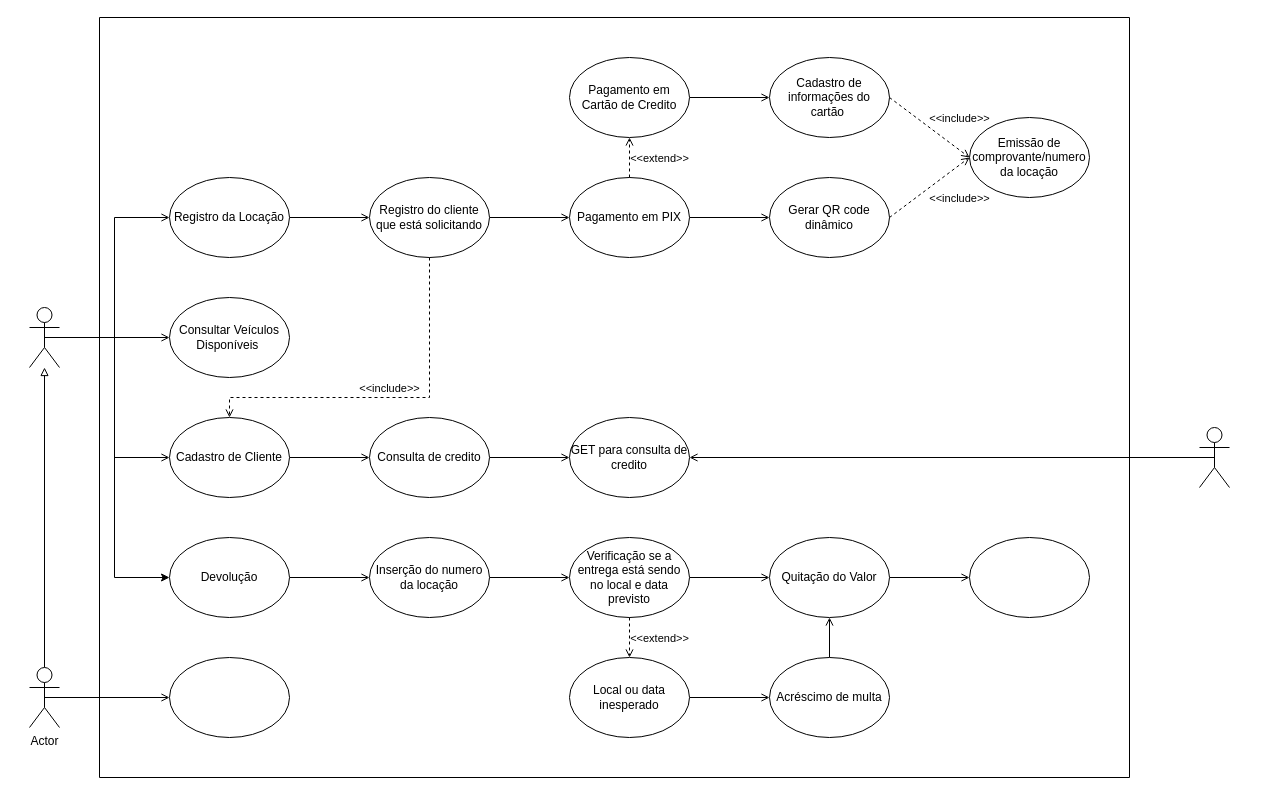
Image size: 1266x795. Some labels were removed from this diagram. The centre of each missing label's shape, as x and y in pixels:
"Atendente" goes at point (44, 337).
"Emissão de nota fiscal" goes at point (1029, 577).
"Emissão de relatórios" goes at point (229, 697).
"Serasa (API)" goes at point (1214, 457).
